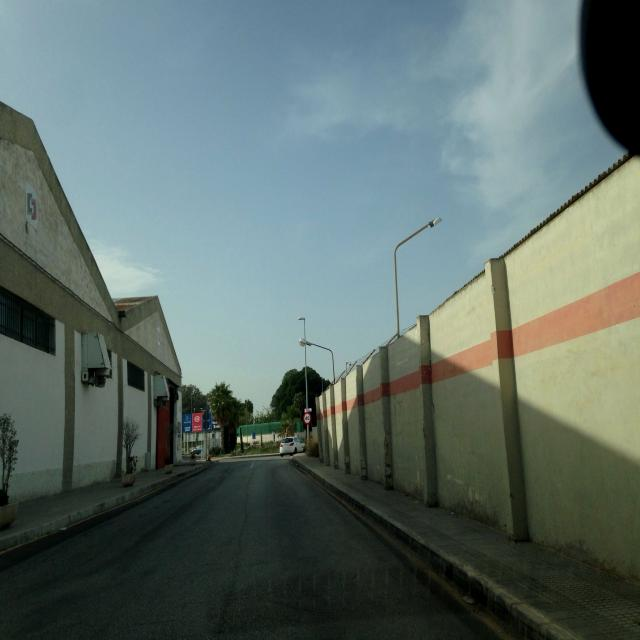car: (278, 436, 298, 456)
